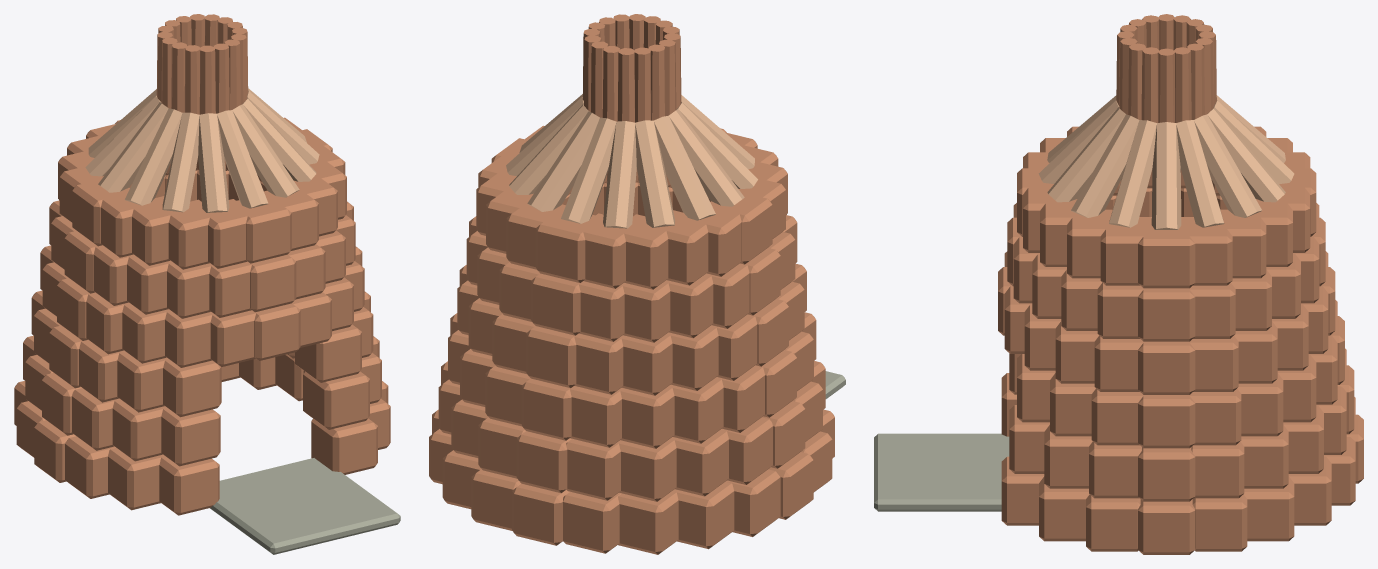
3 renders of one model, left to right at view 1: azimuth 30°, elevation 25°; view 2: azimuth 150°, elevation 25°; view 3: azimuth 270°, elevation 25°, orthographic. The views are drawn at different scales.
Visible parts, largest first — view 1: RF-044 Chimney pottery firing kiln batched; view 2: RF-044 Chimney pottery firing kiln batched; view 3: RF-044 Chimney pottery firing kiln batched.
Boxes of the visible parts, bbox=[...] form: RF-044 Chimney pottery firing kiln batched: bbox=[14, 14, 400, 554]; RF-044 Chimney pottery firing kiln batched: bbox=[429, 14, 845, 554]; RF-044 Chimney pottery firing kiln batched: bbox=[874, 14, 1363, 554].
Bounding box in the file's own units: 1.45 × 1.8 × 1.8.
